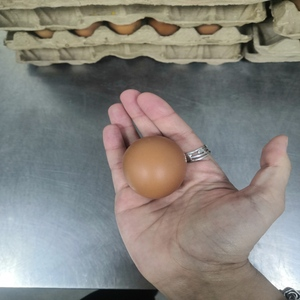brown egg: (122, 134, 186, 199)
